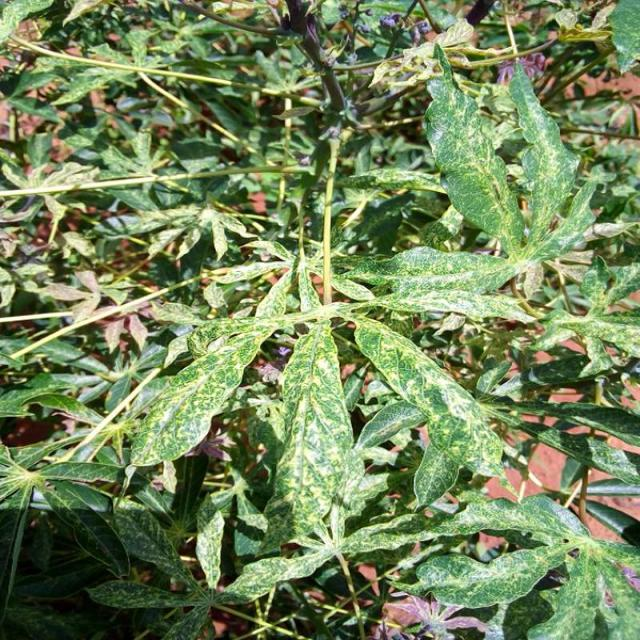cassava leaf: (354, 314, 506, 506), (424, 42, 526, 252), (270, 321, 356, 544)
